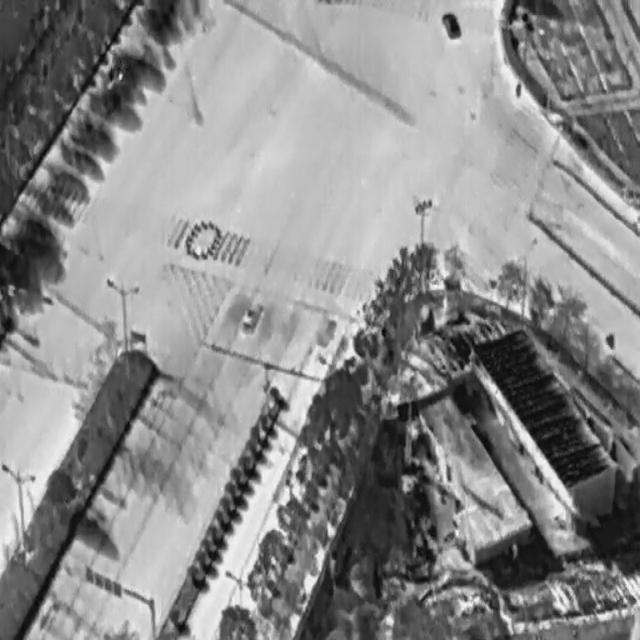Car: (238, 295, 263, 334), (439, 9, 461, 41)
